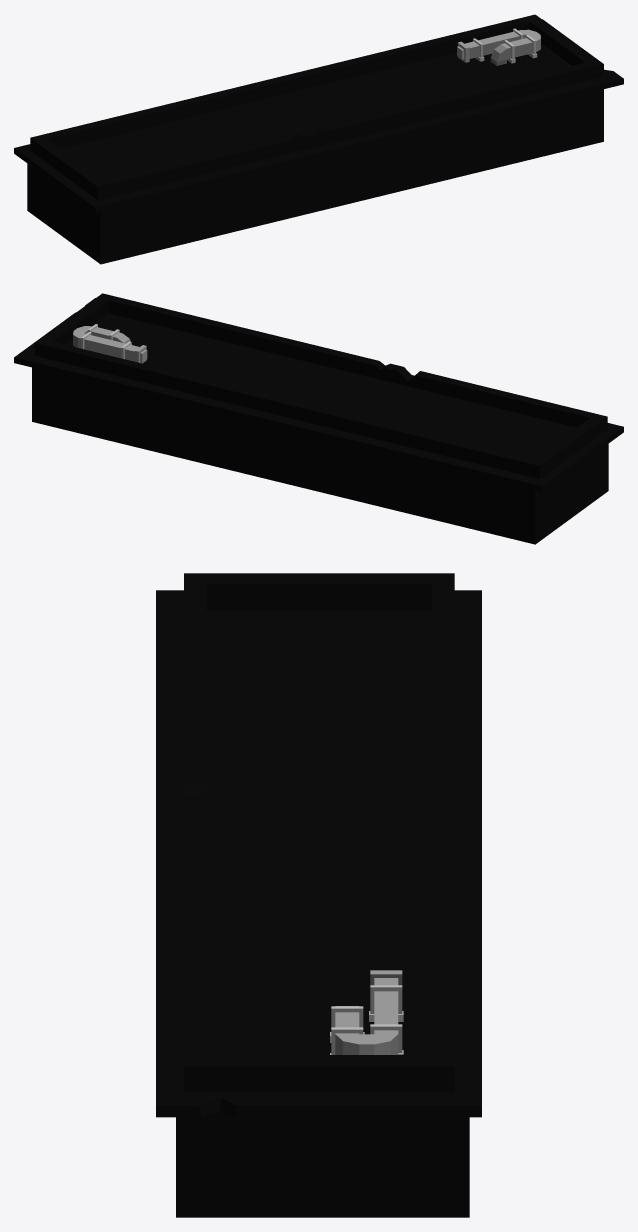
Rendered from SA_Bld_Motel_SideBuilding_Damaged_01.gltf.
The picture shows the model from 3 angles, top to bottom: view 1: azimuth 30°, elevation 25°; view 2: azimuth 150°, elevation 25°; view 3: azimuth 270°, elevation 25°; orthographic projection. The views are drawn at different scales.
Visible parts, largest first — view 1: SA_Bld_Motel_SideBuilding_Damaged_01; view 2: SA_Bld_Motel_SideBuilding_Damaged_01; view 3: SA_Bld_Motel_SideBuilding_Damaged_01.
Part boxes in pixels (x1,y1,x2,y2): SA_Bld_Motel_SideBuilding_Damaged_01: (14, 14, 623, 264); SA_Bld_Motel_SideBuilding_Damaged_01: (14, 293, 623, 544); SA_Bld_Motel_SideBuilding_Damaged_01: (156, 573, 481, 1217).
Bounding box in the file's own units: 37.07 × 5.34 × 9.9.
1 material, 1 textured.
